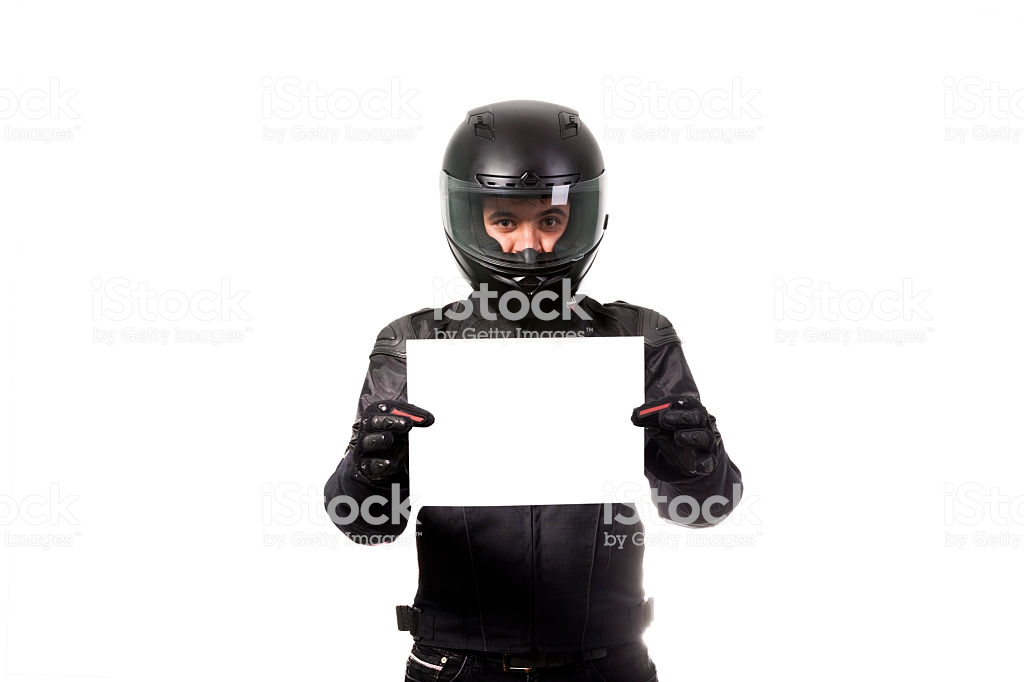helmet: (433, 112, 612, 328)
